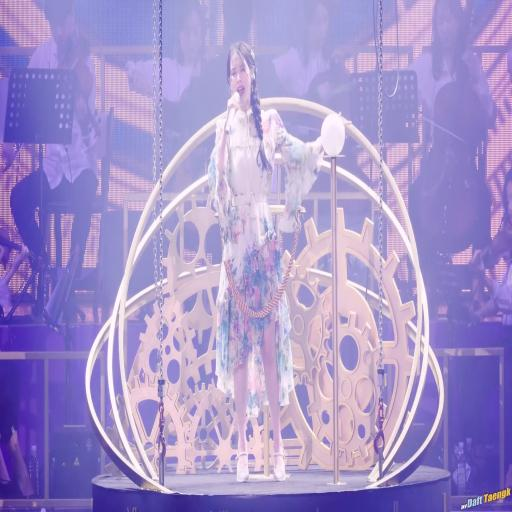IU: (226, 41, 257, 106)
